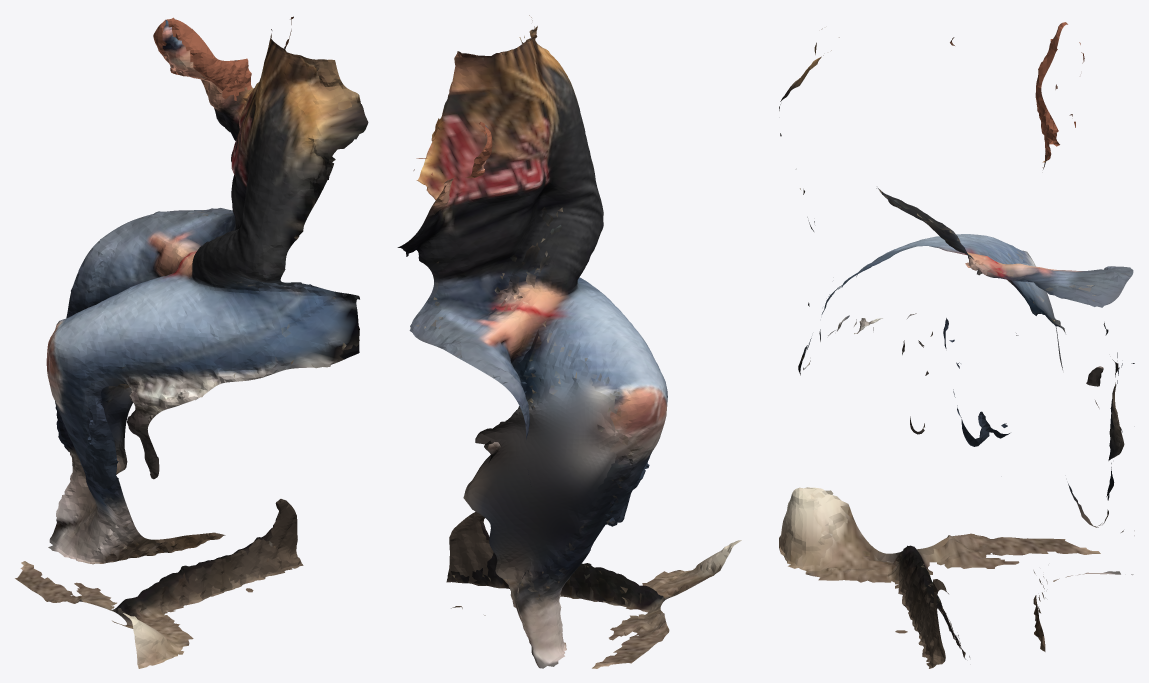
3 renders of one model, left to right at view 1: azimuth 30°, elevation 25°; view 2: azimuth 150°, elevation 25°; view 3: azimuth 270°, elevation 25°, orthographic. The views are drawn at different scales.
Size of the model in its own units: 0.4406 by 0.9953 by 0.5106.
Materials: 1 (1 with a texture image).
